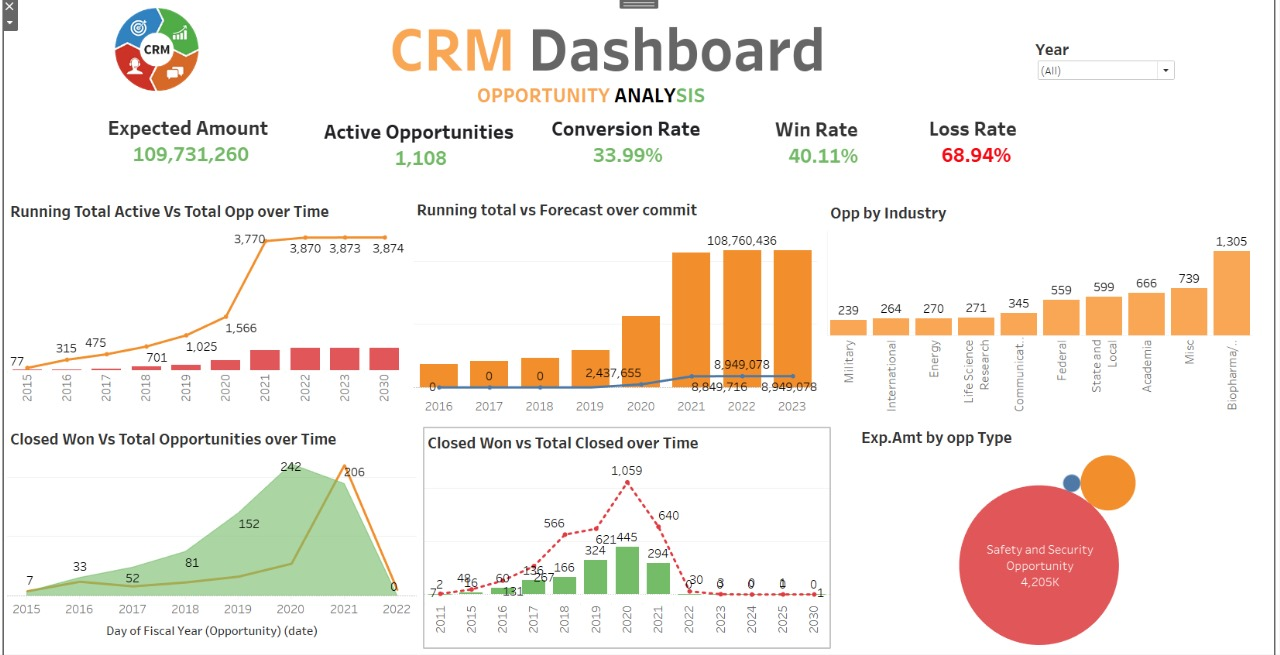

This screenshot's page, from the dashboard's own definition file:
{"tool":"tableau","page":{"name":"Opportunitiy","canvas":[1000,1000],"units":"permille","ordinal":1},"visuals":[{"type":"image","param":"Image/CRM_img-removebg-preview.png","box":[48.6,18.7,152.3,136.1]},{"type":"text","box":[266.8,22.5,419.7,111.1]},{"type":"filter","title":"Active Opp","param":"[federated.1vvaqhi0y893e312hyp560szctv0].[yr:Fiscal Year (Opportunity) (date):ok","box":[810,64.9,110.7,66.2]},{"type":"text","box":[359.6,113.6,204.7,71.2]},{"type":"worksheet","title":"Active Opp","mark":"Automatic","box":[252.7,163.6,170.8,123.6]},{"type":"worksheet","title":"Expected Amount","mark":"Automatic","box":[84.5,179.8,149.7,118.6]},{"type":"worksheet","title":"opp.Conv Rate","mark":"Automatic","box":[430.6,181,168.9,106.1]},{"type":"worksheet","title":"Loss Rate","mark":"Automatic","box":[724.2,181,154.2,99.9]},{"type":"worksheet","title":"Win Rate","mark":"Automatic","box":[601.4,182.3,98.5,86.1]},{"type":"worksheet","title":"Running total vs Forecast over commit","mark":"Bar","rows":["Forecast Amount"],"cols":["Fiscal Year (Opportunity) (date)"],"box":[325,303.4,314.8,333.3]},{"type":"worksheet","title":"Running Total Active Vs Total Opp over Time","mark":"Automatic","rows":["Calculation_1490128575672791055","Calculation_1490128575656656908"],"cols":["Fiscal Year (Opportunity) (date)"],"box":[8.3,305.9,309.7,333.3]},{"type":"worksheet","title":"Opp by Industry","mark":"Automatic","rows":["Calculation_1490128575656656908"],"cols":["Industry (Opportunity)"],"box":[647.5,308.4,332.1,325.8]},{"type":"worksheet","title":"Exp.Amt by opp Type","mark":"Circle","box":[671.8,649.2,294.9,337.1]},{"type":"worksheet","title":"Closed Won Vs Total Opportunities over Time","mark":"Automatic","rows":["Calculation_1490128575656656908","Calculation_1490128575679717393"],"cols":["Fiscal Year (Opportunity) (date)"],"box":[8.3,650.4,319.3,333.3]},{"type":"worksheet","title":"Closed Won vs Total Closed over Time","mark":"Automatic","rows":["Calculation_1490128575679717393","Calculation_1490128575682478099"],"cols":["Fiscal Year (Opportunity) (date)"],"box":[334,656.7,315.4,333.3]}]}

Visuals, with their boxes on the dashboard's canvas, which has no fixed pixel size, in thousandths of its width and height (x1, y1, x2, y2). These are canvas units, not pixel positions in the 1280x655 screenshot, which may show the page scaled, cropped or inside an application window:
image: (x1=49, y1=19, x2=201, y2=155)
text: (x1=267, y1=22, x2=686, y2=134)
"Active Opp" filter: (x1=810, y1=65, x2=921, y2=131)
text: (x1=360, y1=114, x2=564, y2=185)
"Active Opp" worksheet: (x1=253, y1=164, x2=424, y2=287)
"Expected Amount" worksheet: (x1=84, y1=180, x2=234, y2=298)
"opp.Conv Rate" worksheet: (x1=431, y1=181, x2=600, y2=287)
"Loss Rate" worksheet: (x1=724, y1=181, x2=878, y2=281)
"Win Rate" worksheet: (x1=601, y1=182, x2=700, y2=268)
"Running total vs Forecast over commit" worksheet (Bar marks): (x1=325, y1=303, x2=640, y2=637)
"Running Total Active Vs Total Opp over Time" worksheet: (x1=8, y1=306, x2=318, y2=639)
"Opp by Industry" worksheet: (x1=648, y1=308, x2=980, y2=634)
"Exp.Amt by opp Type" worksheet (Circle marks): (x1=672, y1=649, x2=967, y2=986)
"Closed Won Vs Total Opportunities over Time" worksheet: (x1=8, y1=650, x2=328, y2=984)
"Closed Won vs Total Closed over Time" worksheet: (x1=334, y1=657, x2=649, y2=990)
